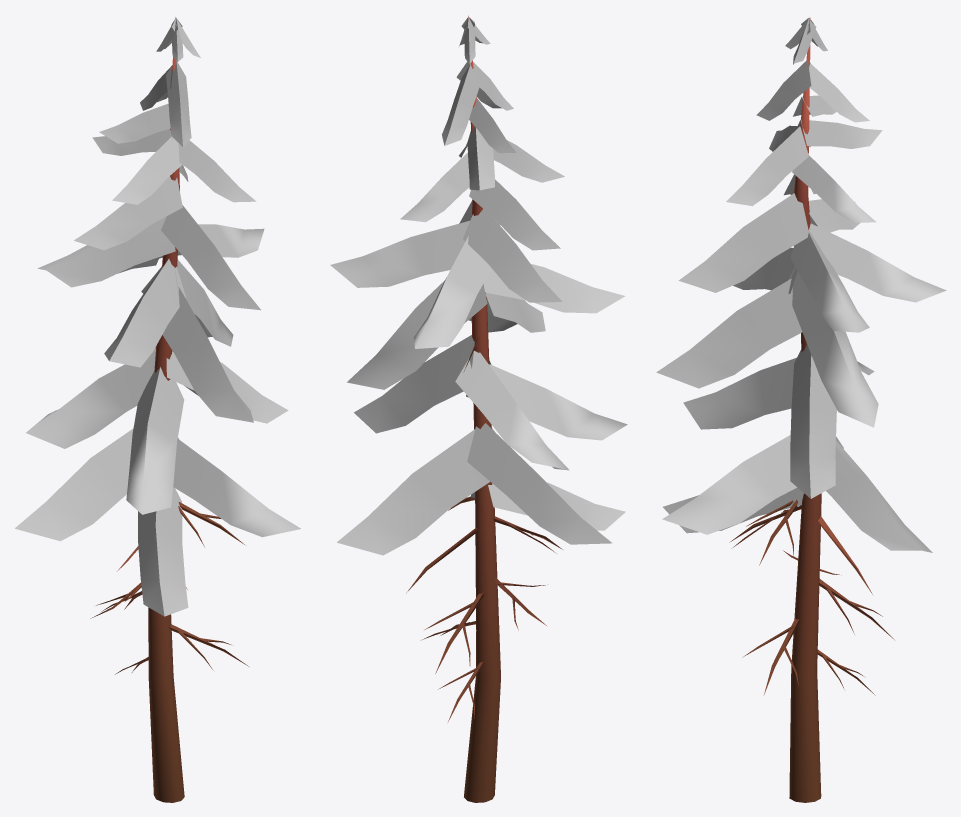
The model's file is Tree3.fbx.
3 renders of one model, left to right at view 1: azimuth 30°, elevation 25°; view 2: azimuth 150°, elevation 25°; view 3: azimuth 270°, elevation 25°, orthographic.
Visible parts, largest first — view 1: Tree3; view 2: Tree3; view 3: Tree3.
Part boxes in pixels (x1,y1,x2,y2): Tree3: [15, 17, 300, 802]; Tree3: [330, 15, 627, 802]; Tree3: [656, 17, 946, 802].
Bounding box in the file's own units: 8.23 × 22.99 × 7.7.
